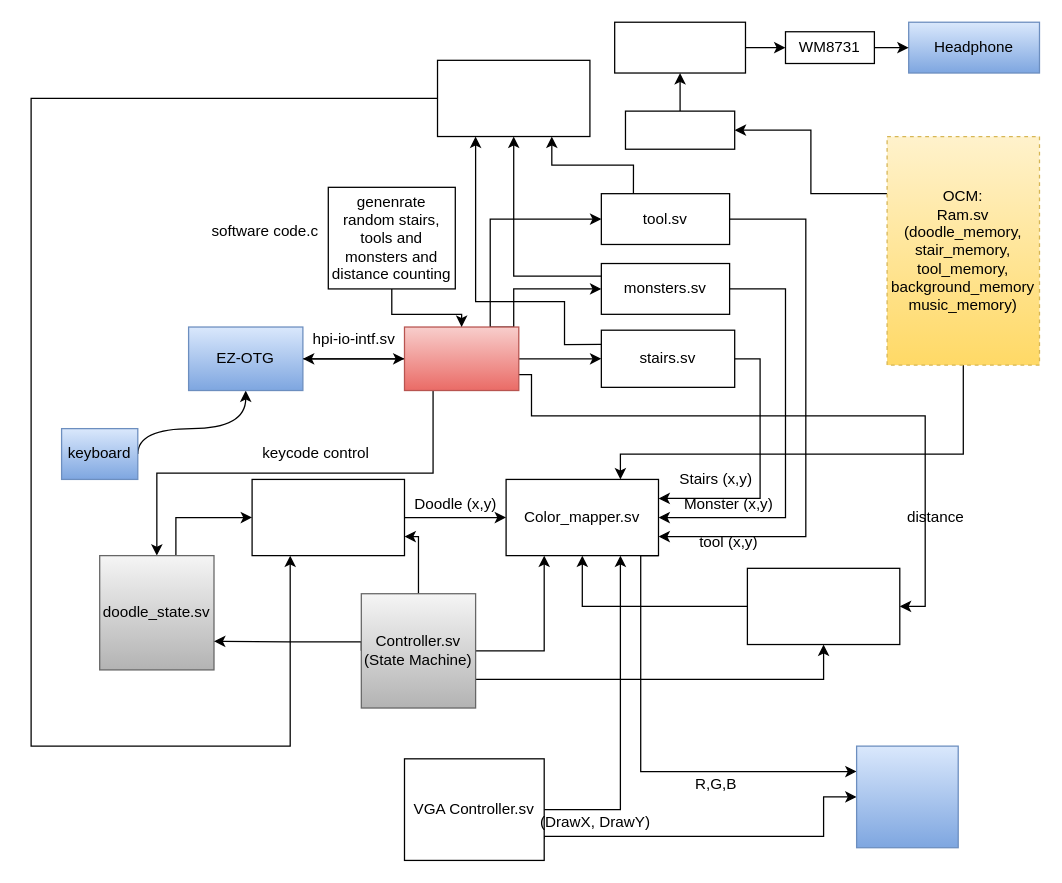
This 1062x883 diagram has some shape labels left out. Here are the shapes that lost their labels. From the top down, the box of each, then its label:
(613, 21, 745, 73): audio_interface
(436, 59, 590, 137): Collision.sv
(624, 110, 735, 149): audio.sv
(403, 326, 519, 391): NIOS II
(251, 478, 404, 556): Doodle(ball.sv)
(746, 567, 900, 645): score.sv
(855, 745, 958, 848): Monitor
